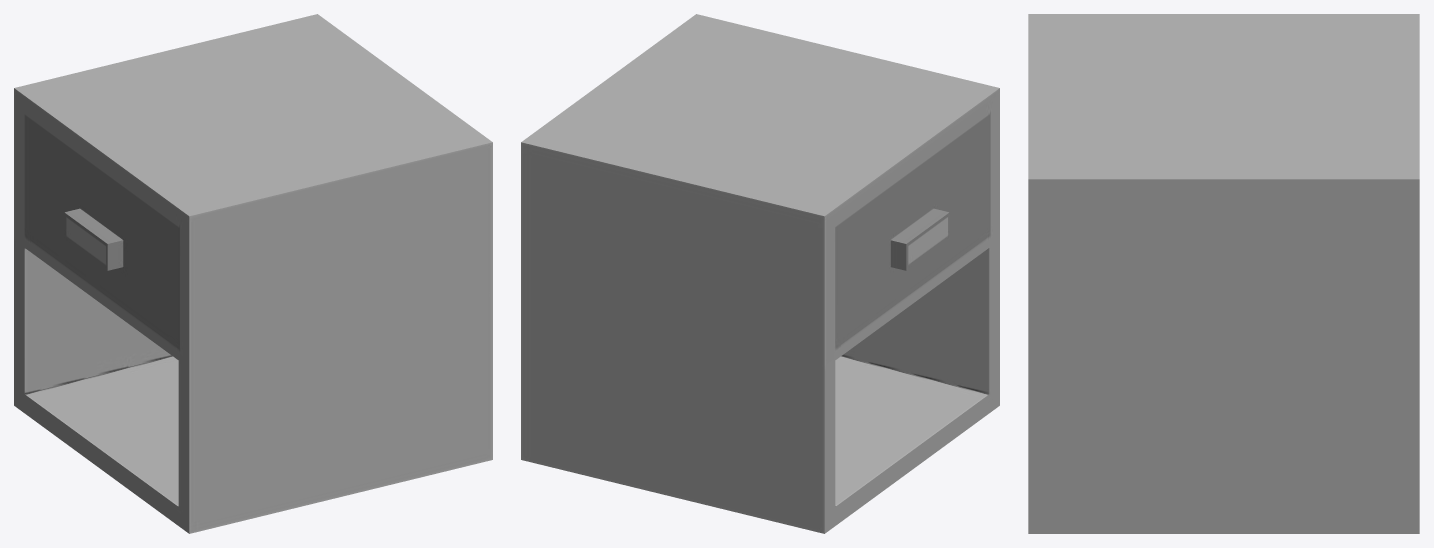
Rendered from comodino.FBX.
3 renders of one model, left to right at view 1: azimuth 30°, elevation 25°; view 2: azimuth 150°, elevation 25°; view 3: azimuth 270°, elevation 25°, orthographic. The views are drawn at different scales.
Visible parts, largest first — view 1: comodino; view 2: comodino; view 3: comodino.
Boxes of the visible parts, left/top/right/bottom form: comodino: left=14, top=14, right=492, bottom=533; comodino: left=521, top=14, right=999, bottom=533; comodino: left=1028, top=14, right=1419, bottom=533.
Bounding box in the file's own units: 0.5259 × 0.5 × 0.5.
